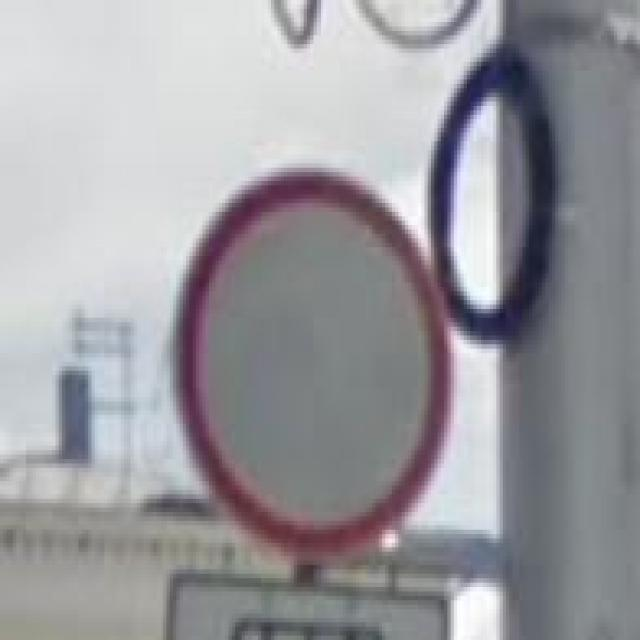no_passing: (176, 164, 457, 560)
